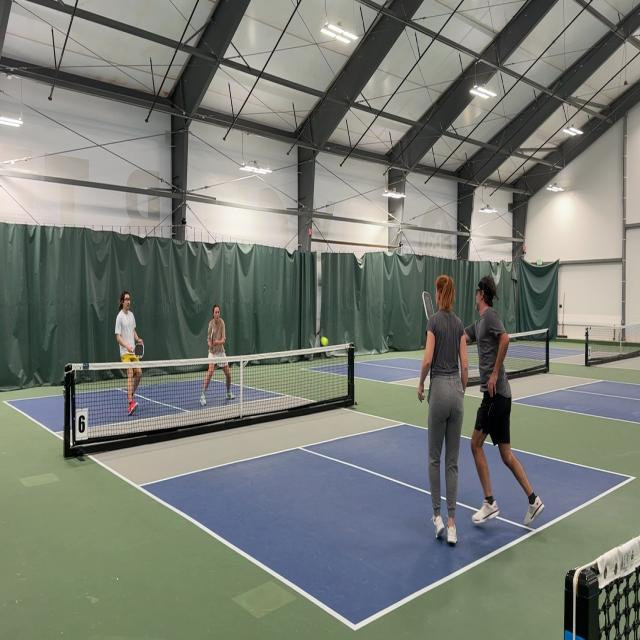ball: (320, 336, 329, 348)
